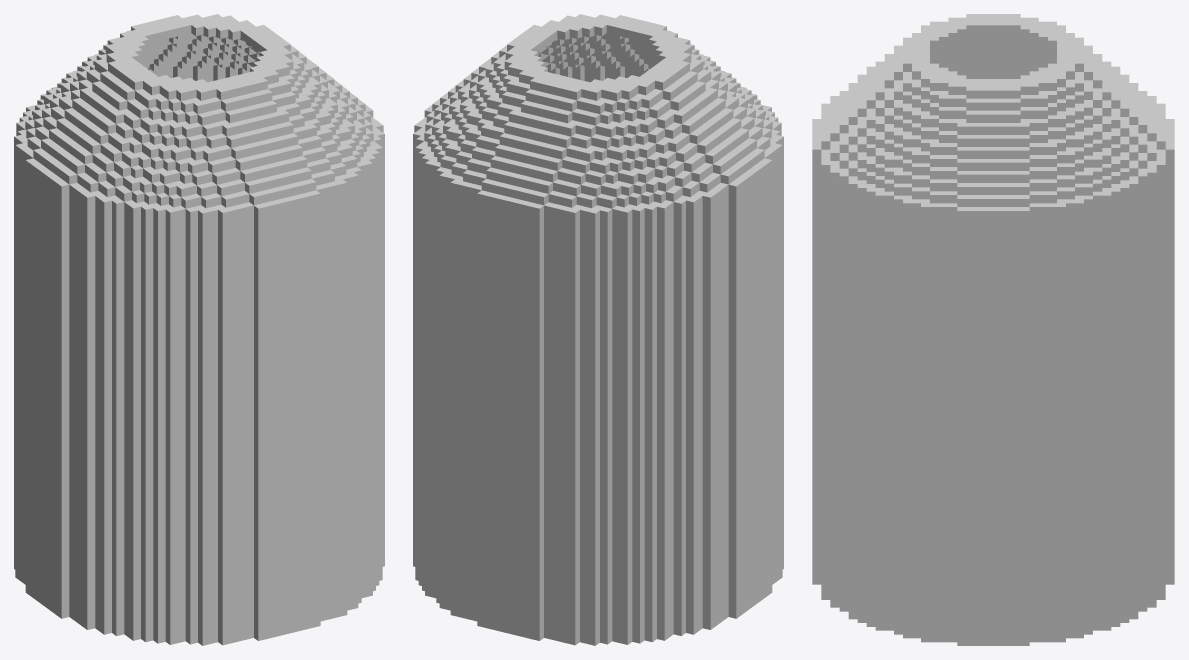
Rendered from Kloshe-1.obj.
3 renders of one model, left to right at view 1: azimuth 30°, elevation 25°; view 2: azimuth 150°, elevation 25°; view 3: azimuth 270°, elevation 25°, orthographic.
Bounding box in the file's own units: 4 × 6.3 × 4.
1 material, 1 textured.
